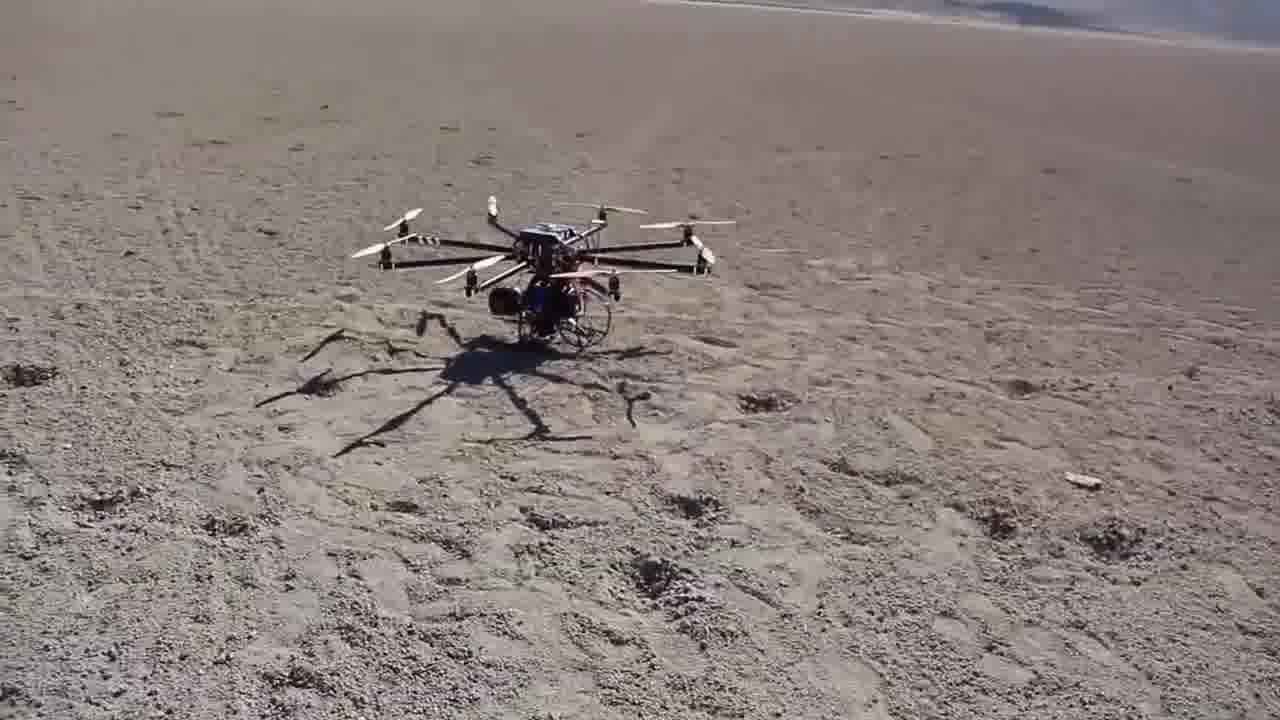drone: (360, 177, 740, 353)
